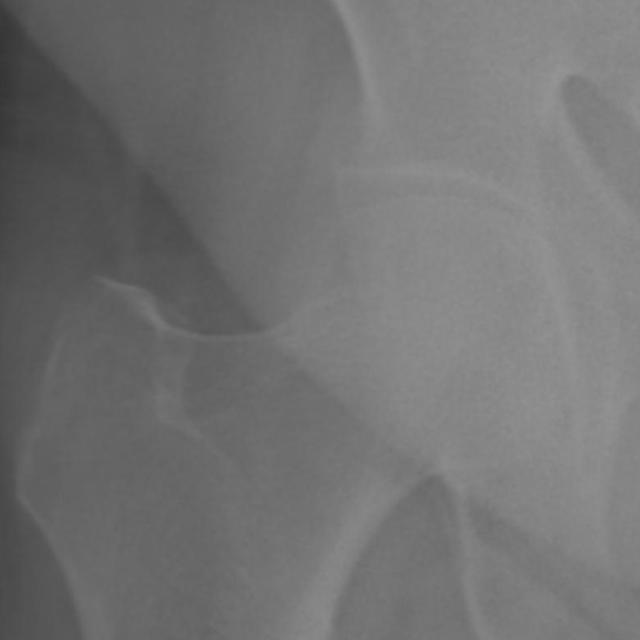Fitted_femural_head: (297, 194, 432, 297)
